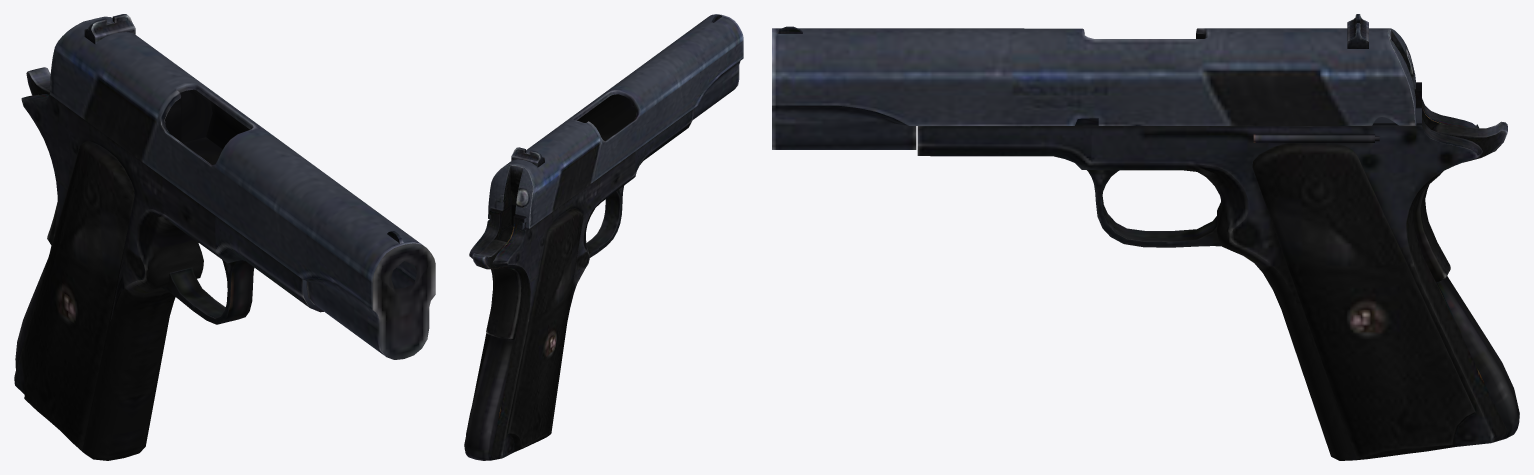
The model's file is Model Low Poly Pistol.FBX.
3 views of the same model, side by side, from view 1: azimuth 30°, elevation 25°; view 2: azimuth 150°, elevation 25°; view 3: azimuth 270°, elevation 25° (orthographic). The views are drawn at different scales.
Parts seen in each view (by area): view 1: Pistol; view 2: Pistol; view 3: Pistol.
Part boxes in pixels (box(x1,y1,x2,y2)): Pistol: box(14, 14, 435, 460); Pistol: box(464, 14, 743, 460); Pistol: box(772, 14, 1519, 460).
Bounding box in the file's own units: 7.4 × 37.93 × 60.07.
1 material, 1 textured.
